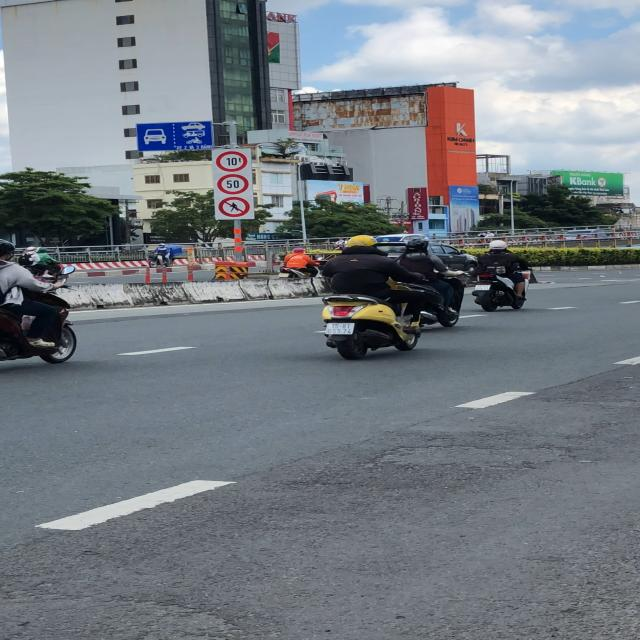Bien bao cam nguoi di bo: (217, 196, 253, 217)
Bien bao toc do toi da cho phep: (214, 173, 251, 194)
